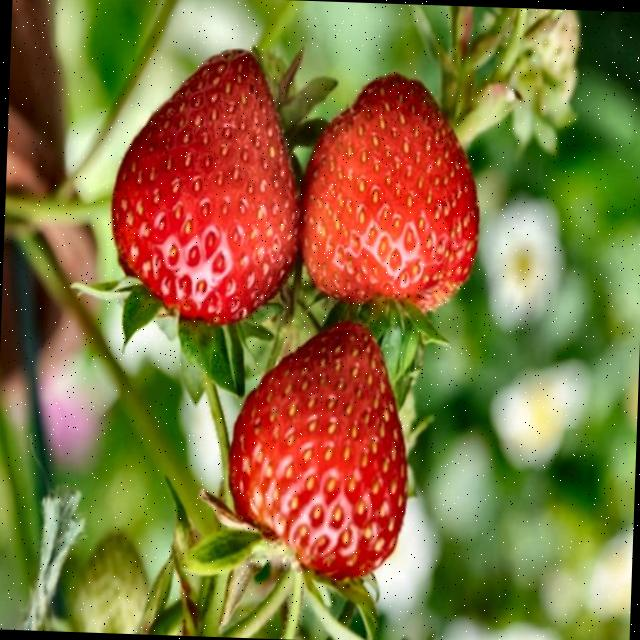strawberry: (110, 50, 297, 324), (228, 321, 406, 578), (300, 73, 478, 311)
